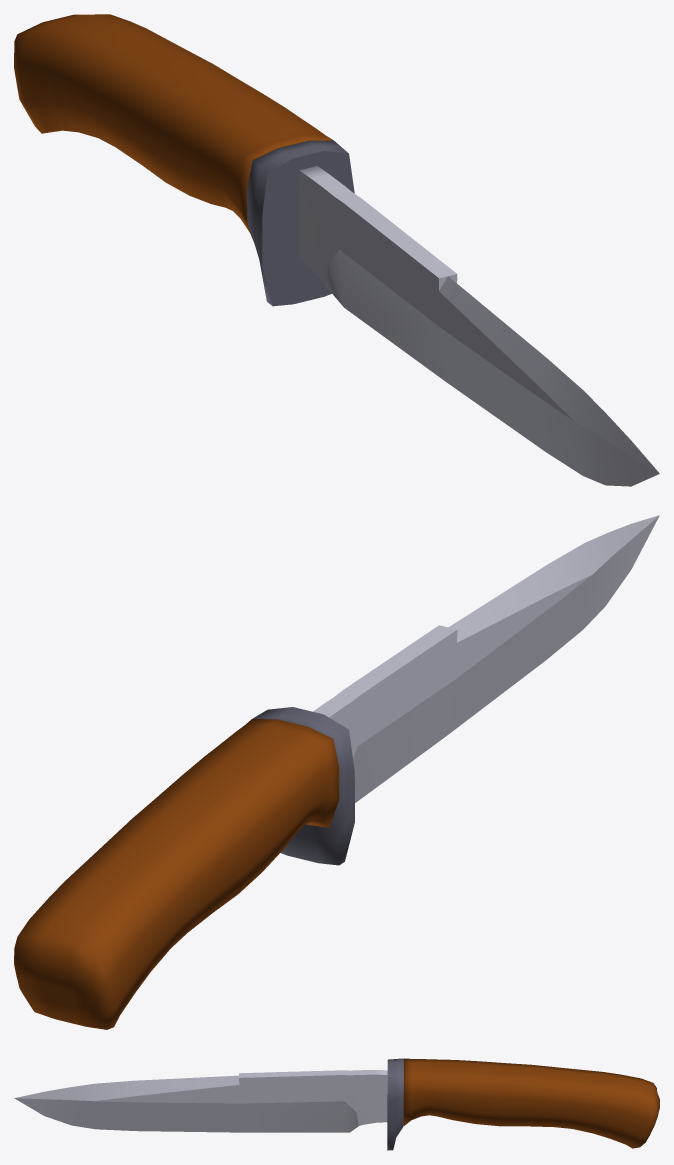
Rendered from knife.fbx.
The picture shows the model from 3 angles, top to bottom: view 1: azimuth 30°, elevation 25°; view 2: azimuth 150°, elevation 25°; view 3: azimuth 270°, elevation 25°; orthographic projection. The views are drawn at different scales.
Parts seen in each view (by area): view 1: Knife; view 2: Knife; view 3: Knife.
Part boxes in pixels (bbox=[...]): Knife: bbox=[14, 14, 659, 486]; Knife: bbox=[14, 515, 659, 1029]; Knife: bbox=[14, 1058, 659, 1150].
Size of the model in its own units: 4.33 by 6.5 by 49.17.
